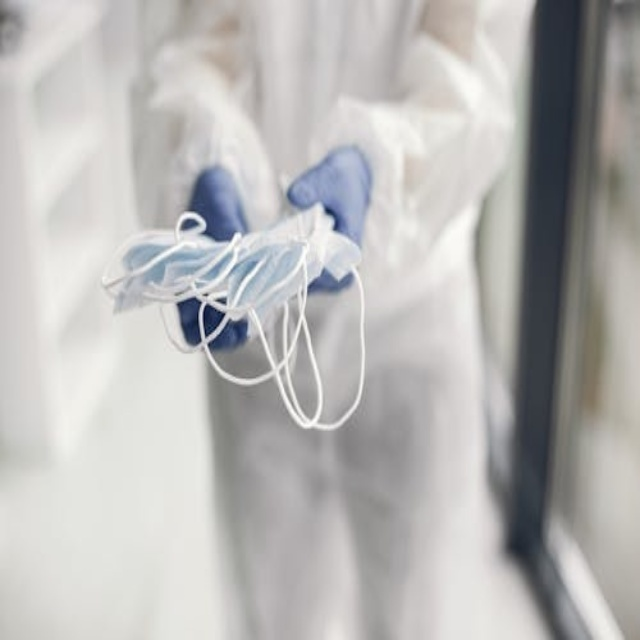Guantes: (178, 164, 256, 350), (287, 144, 373, 293)
